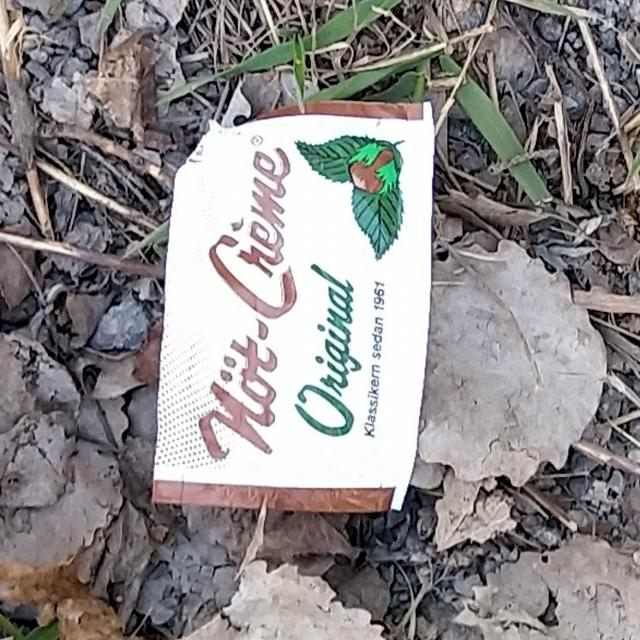Trash: (150, 100, 433, 514)
